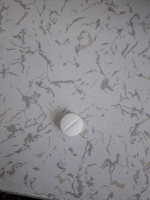Arveles: (58, 112, 85, 138)
